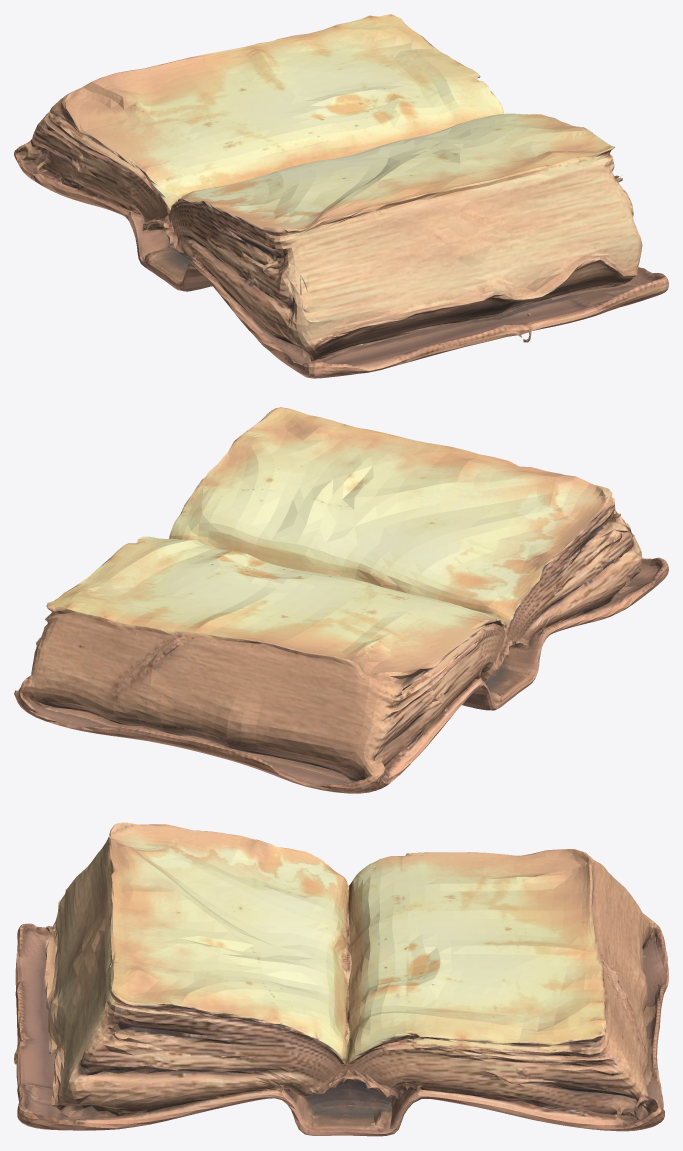
Rendered from old book diary.glb.
3 renders of one model, top to bottom at view 1: azimuth 30°, elevation 25°; view 2: azimuth 150°, elevation 25°; view 3: azimuth 270°, elevation 25°, orthographic. The views are drawn at different scales.
Visible parts, largest first — view 1: tripo_node_7b8d4c50-ef58-4cc2-9350-84b9c0d979c5; view 2: tripo_node_7b8d4c50-ef58-4cc2-9350-84b9c0d979c5; view 3: tripo_node_7b8d4c50-ef58-4cc2-9350-84b9c0d979c5.
Part boxes in pixels (x1=…): tripo_node_7b8d4c50-ef58-4cc2-9350-84b9c0d979c5: x1=14, y1=14, x2=668, y2=378; tripo_node_7b8d4c50-ef58-4cc2-9350-84b9c0d979c5: x1=14, y1=407, x2=668, y2=793; tripo_node_7b8d4c50-ef58-4cc2-9350-84b9c0d979c5: x1=14, y1=822, x2=668, y2=1136.
Bounding box in the file's own units: 0.6747 × 0.2289 × 0.9709.
1 material, 1 textured.
